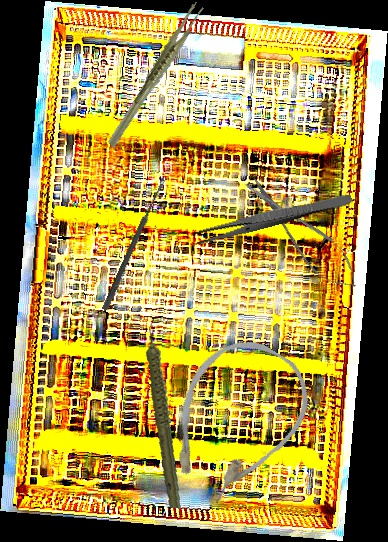Cannula: (143, 322, 327, 520)
Dressing Forceps: (191, 189, 354, 247)
Handpiece: (128, 318, 202, 509)
Micro Scissor: (235, 167, 369, 300)
Surgical Spoon: (101, 175, 168, 312)
Tissue Forceps: (84, 0, 226, 149)
